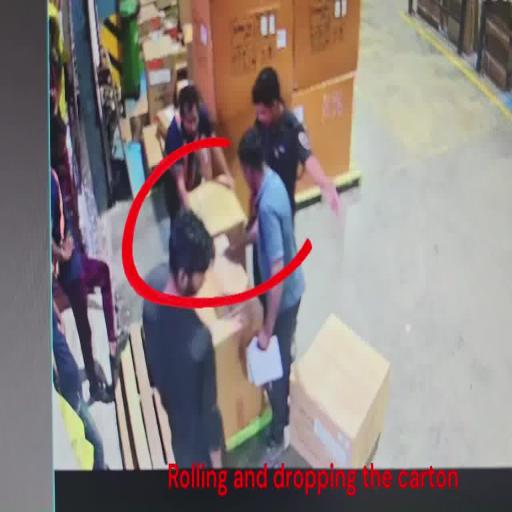carton: (289, 307, 392, 471), (179, 1, 296, 120), (198, 250, 264, 439), (214, 82, 286, 212), (179, 177, 253, 291), (289, 80, 354, 194), (293, 0, 362, 92)
pallet: (104, 322, 174, 473), (292, 168, 363, 216), (220, 398, 272, 460)
person: (224, 124, 307, 470), (140, 210, 226, 474), (47, 156, 129, 409), (251, 63, 344, 224), (161, 79, 237, 257), (47, 280, 107, 469)
